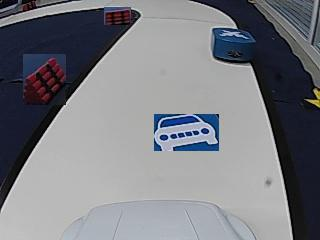prop: (212, 28, 255, 63)
